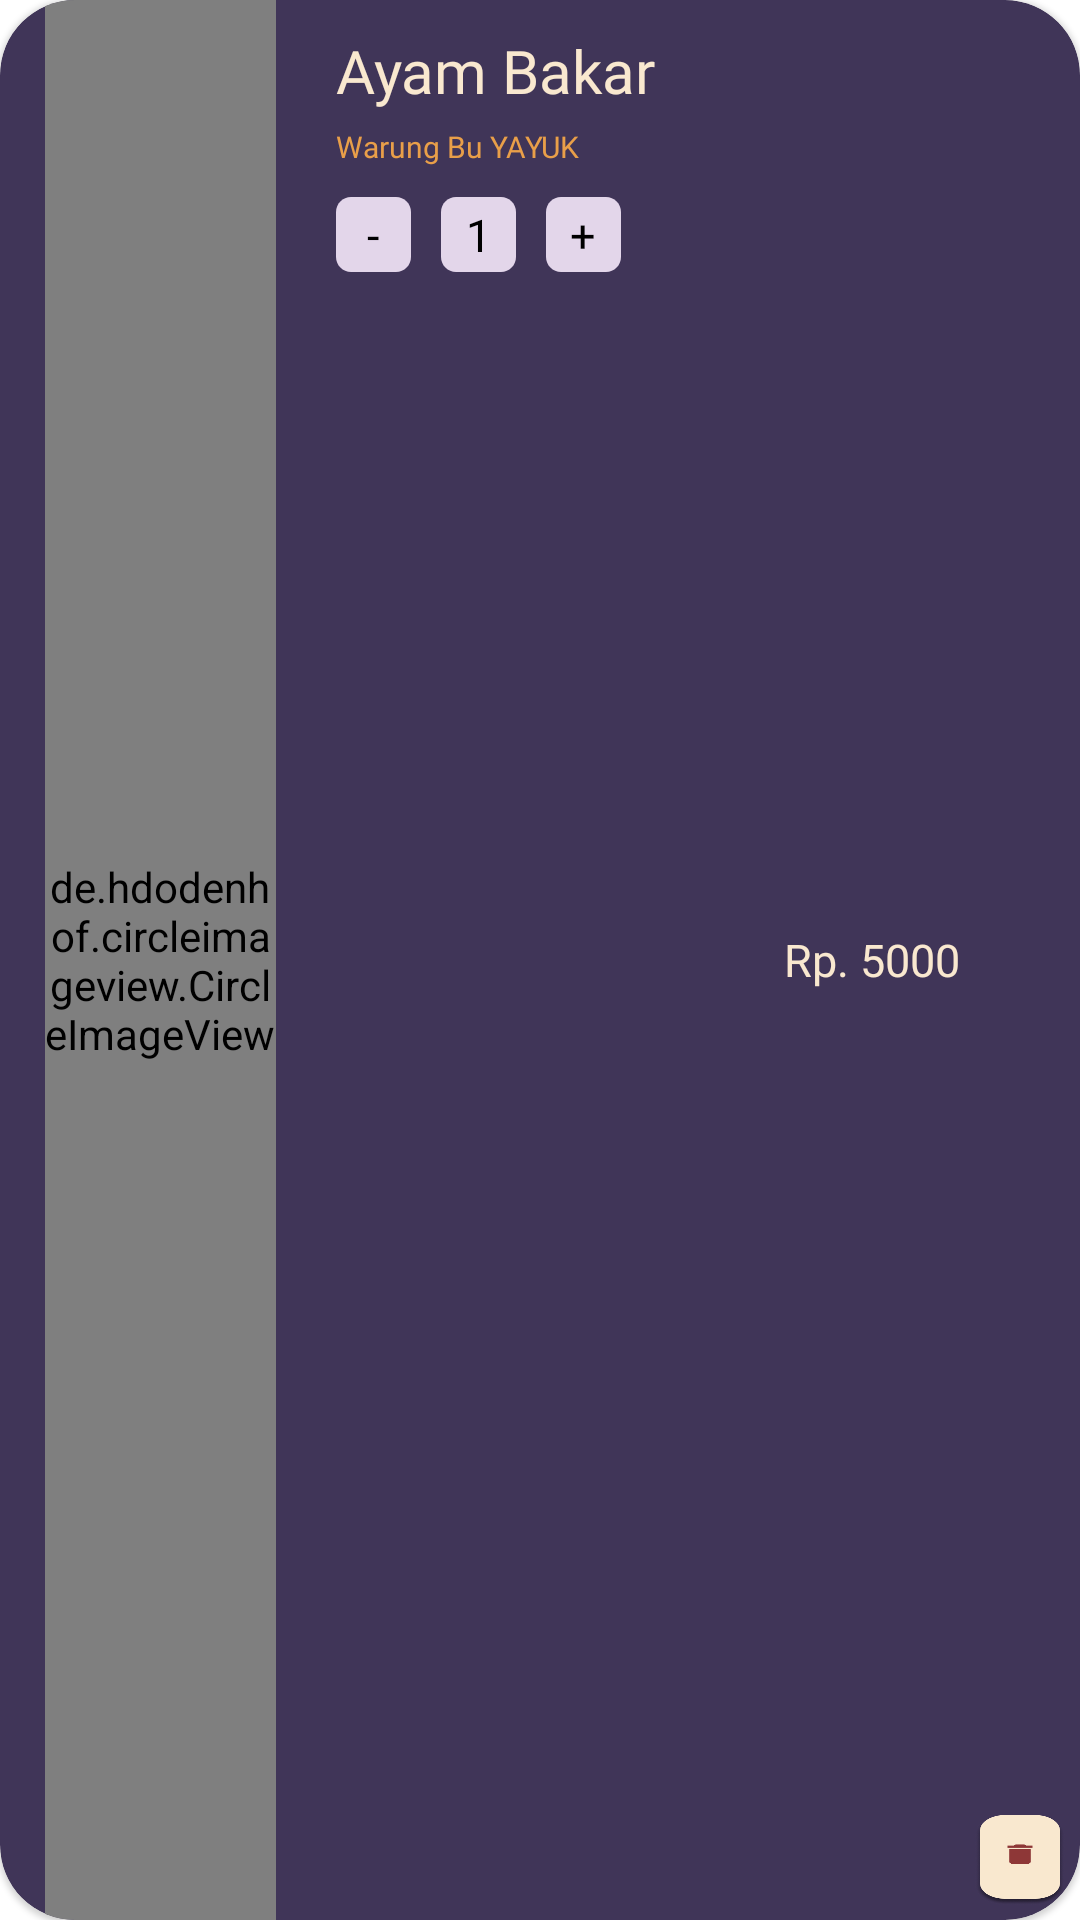

Where to tap for icons on this 1080 x 1920 app screen, as (x,y):
iconsampah: (1020,1858)
